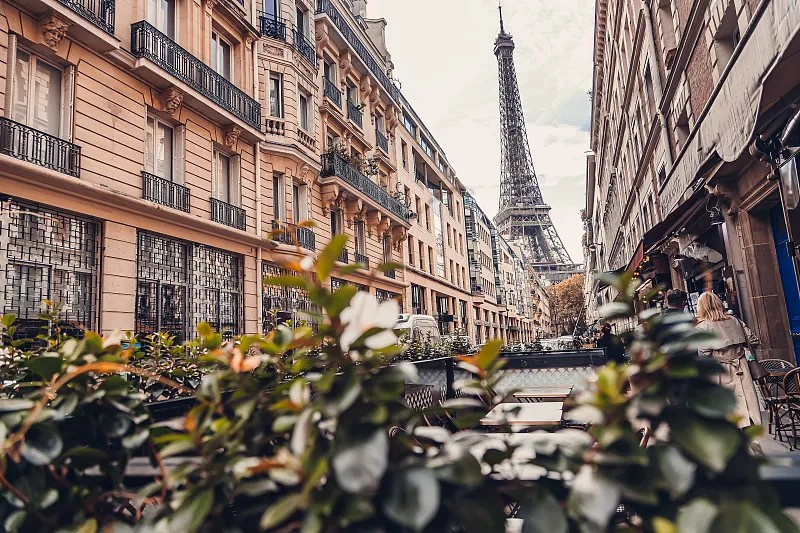Eiffel: (492, 1, 585, 284)
